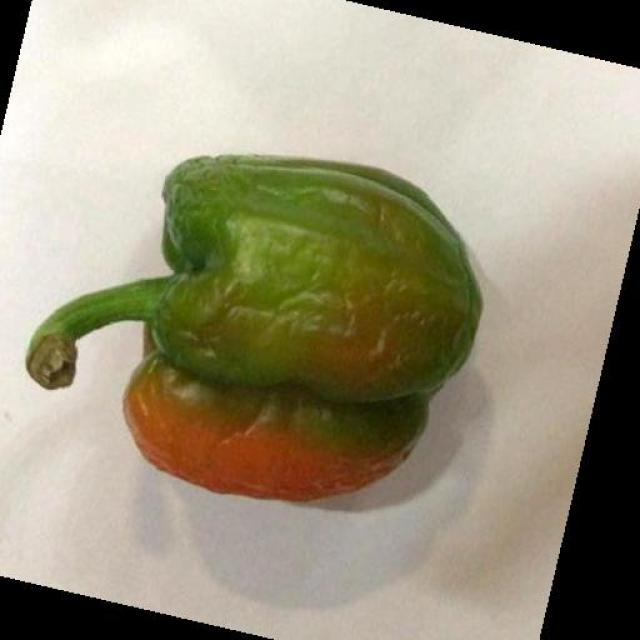Stale_Capsicum: (151, 155, 478, 511)
